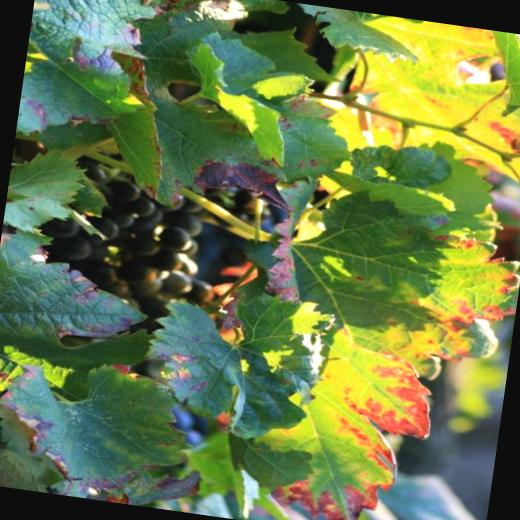Orange: (31, 144, 249, 340), (20, 146, 226, 332)
